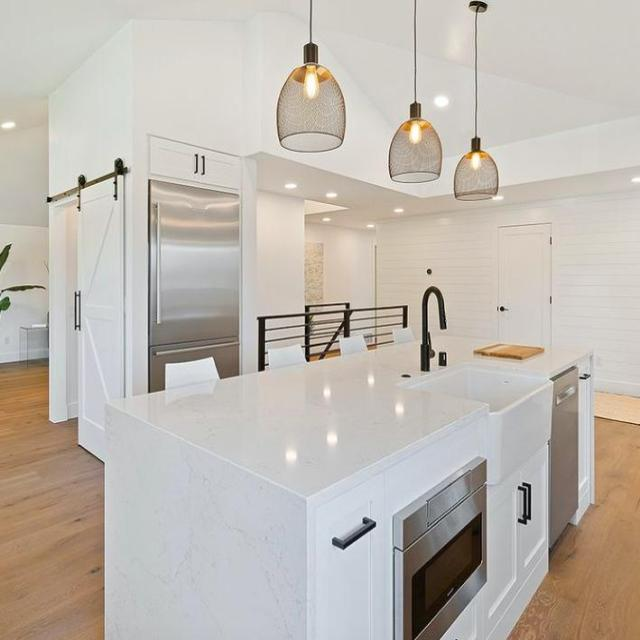dishwasher: (550, 364, 577, 546)
